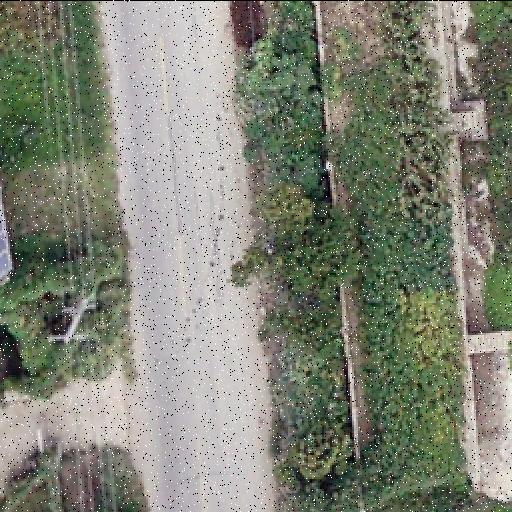solar-panel: (1, 196, 15, 272)
